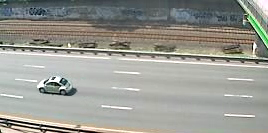car: (34, 74, 75, 98)
